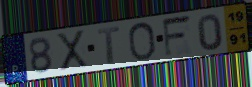0: (196, 11, 225, 53)
8: (28, 36, 54, 75)
F: (161, 13, 194, 60)
O: (127, 20, 158, 62)
T: (96, 25, 122, 66)
X: (55, 29, 90, 73)
